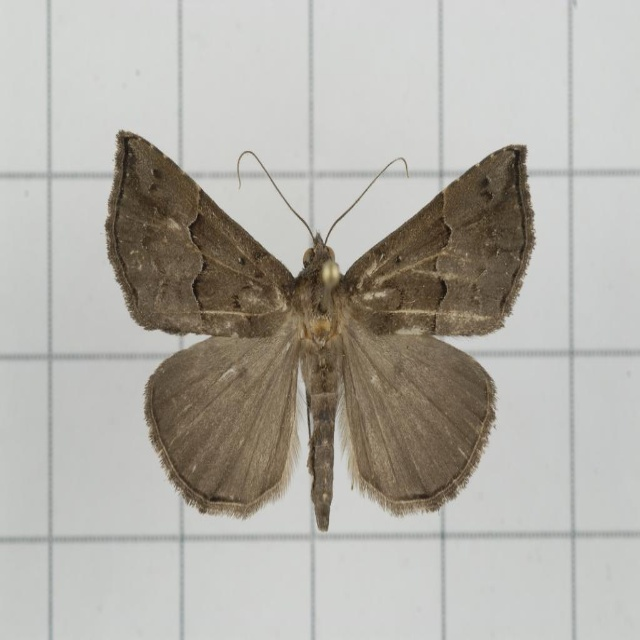Butterfly: (104, 128, 536, 532)
